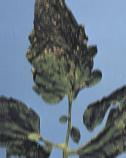Tomato Septoria leaf spot: (22, 0, 106, 107), (70, 83, 126, 158), (0, 89, 56, 158)
